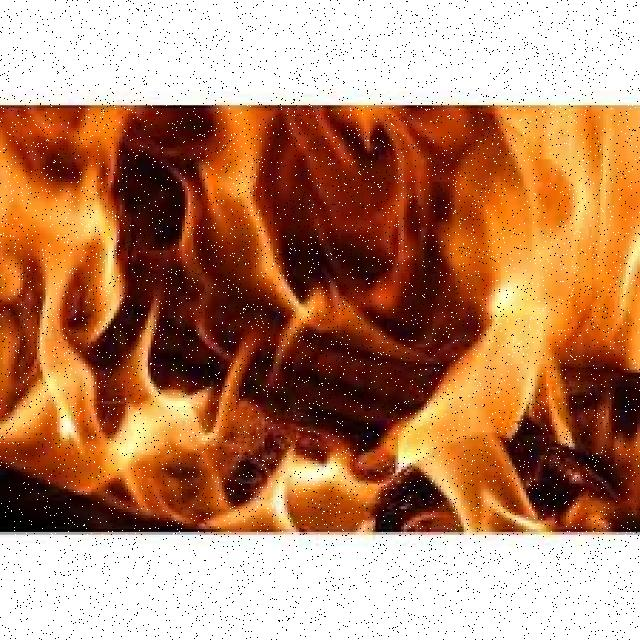fire: (0, 110, 639, 535)
